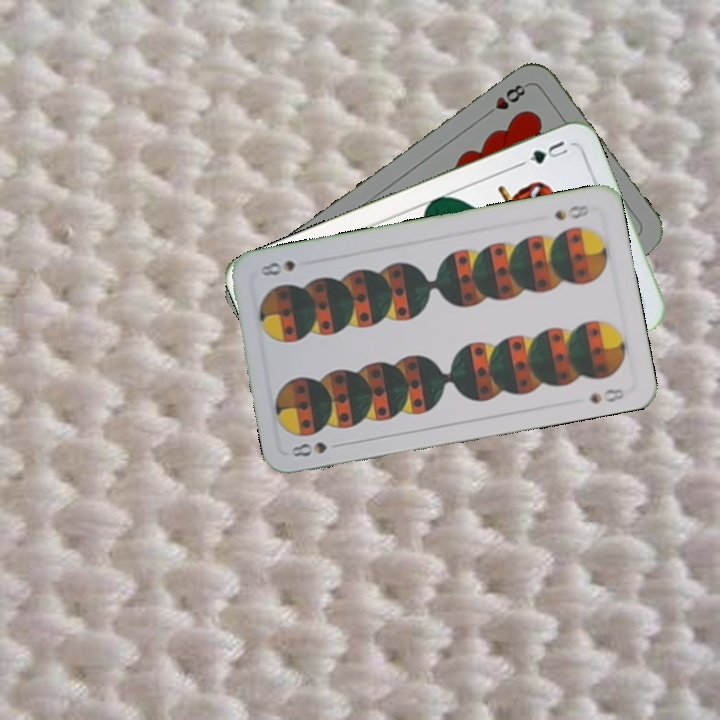GU: (525, 136, 571, 167)
H8: (480, 80, 531, 120)
S8: (287, 437, 330, 460), (550, 201, 591, 223)
